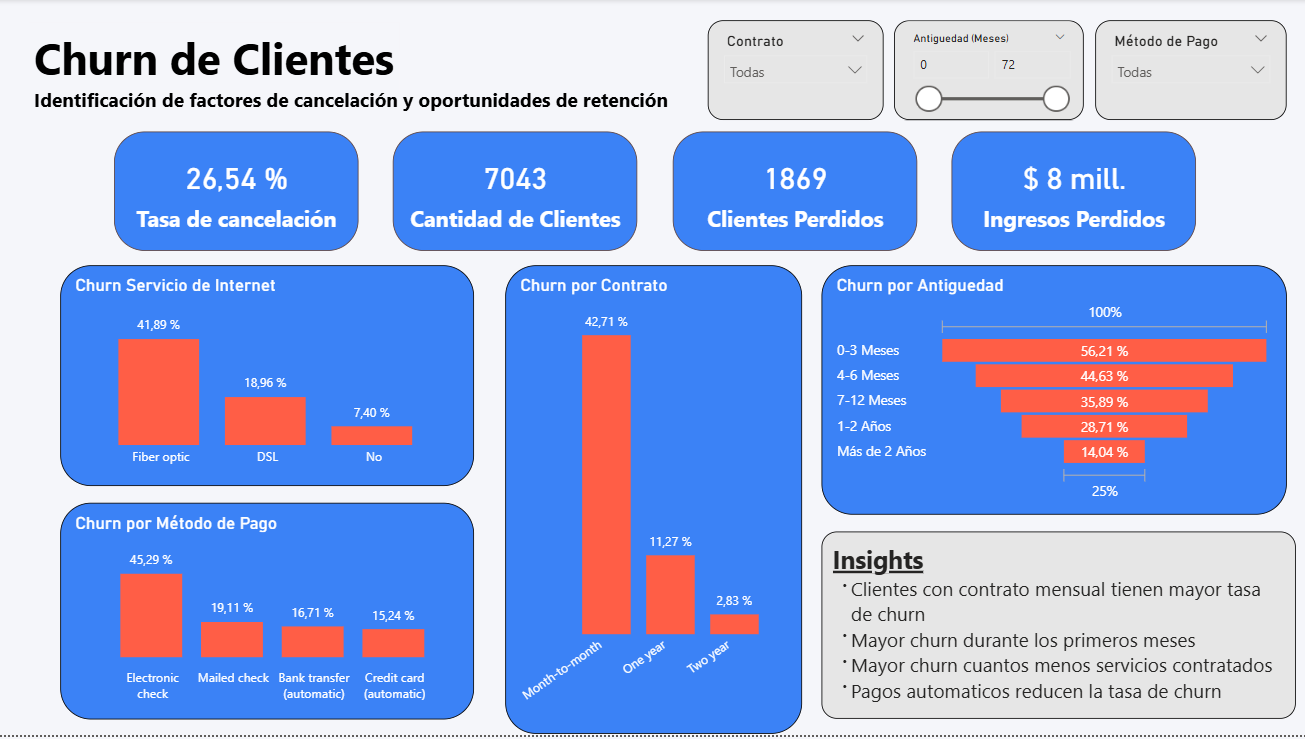

The dashboard page shown, as its layout file describes it:
{"tool":"powerbi","page":{"name":"Página 1","canvas":[1280,720],"ordinal":0},"visuals":[{"type":"card","fields":{"Values":["Medidas.Porcentaje de salida"]},"box":[112.2,129.6,239.3,117.2],"z":0},{"type":"columnChart","title":"Churn por Contrato","fields":{"Category":["Dataset Churn.Contract"],"Y":["Medidas.Porcentaje de salida"]},"box":[494.9,260.5,290.5,458.7],"z":1000},{"type":"columnChart","title":"Churn Servicio de Internet","fields":{"Category":["Dataset Churn.InternetService"],"Y":["Medidas.Porcentaje de salida"]},"box":[59.8,260.5,405.1,215.7],"z":2000},{"type":"card","fields":{"Values":["Count(Dataset Churn.customerID)"]},"box":[384.7,129.1,239.3,117.2],"z":3000},{"type":"card","fields":{"Values":["Medidas.Clientes Perdidos"]},"box":[659,129.1,239.3,117.2],"z":4000},{"type":"textbox","box":[29.9,23.7,362.8,68.6],"z":5000},{"type":"funnel","title":"Churn por Antiguedad","fields":{"Category":["Dataset Churn.Rango_Antiguedad"],"Y":["Medidas.Porcentaje de salida"]},"box":[804.1,260.5,455,244.3],"z":7000},{"type":"columnChart","title":"Churn por Método de Pago","fields":{"Y":["Medidas.Porcentaje de salida"],"Category":["Dataset Churn.PaymentMethod"]},"box":[59.8,492.4,405.1,211.9],"z":10000},{"type":"textbox","box":[29.9,81,642,37.4],"z":10002},{"type":"slicer","fields":{"Values":["Dataset Churn.Contract"]},"box":[693.1,21.2,172,97.2],"z":10003},{"type":"slicer","fields":{"Values":["Dataset Churn.PaymentMethod"]},"box":[1072.1,21.2,187,97.2],"z":10004},{"type":"slicer","fields":{"Values":["Dataset Churn.tenure"]},"box":[875.1,21.2,185.7,97.2],"z":10005},{"type":"card","fields":{"Values":["Medidas.Ingresos Perdidos"]},"box":[932,129.1,239.3,117.2],"z":10006},{"type":"textbox","box":[804.1,521.1,463.7,183.2],"z":10007}]}

Visuals, with their boxes in screenshot pixels (x1, y1, x2, y2), scaled from the page's 1280x720 canvas onto the 1305x739 screenshot:
card - Medidas.Porcentaje de salida: locate(114, 133, 358, 253)
"Churn por Contrato" columnChart: locate(505, 267, 801, 738)
"Churn Servicio de Internet" columnChart: locate(61, 267, 474, 489)
card - Count(Dataset Churn.customerID): locate(392, 133, 636, 253)
card - Medidas.Clientes Perdidos: locate(672, 133, 916, 253)
textbox: locate(30, 24, 400, 95)
"Churn por Antiguedad" funnel: locate(820, 267, 1284, 518)
"Churn por Método de Pago" columnChart: locate(61, 505, 474, 723)
textbox: locate(30, 83, 685, 122)
slicer - Dataset Churn.Contract: locate(707, 22, 882, 122)
slicer - Dataset Churn.PaymentMethod: locate(1093, 22, 1284, 122)
slicer - Dataset Churn.tenure: locate(892, 22, 1082, 122)
card - Medidas.Ingresos Perdidos: locate(950, 133, 1194, 253)
textbox: locate(820, 535, 1293, 723)
